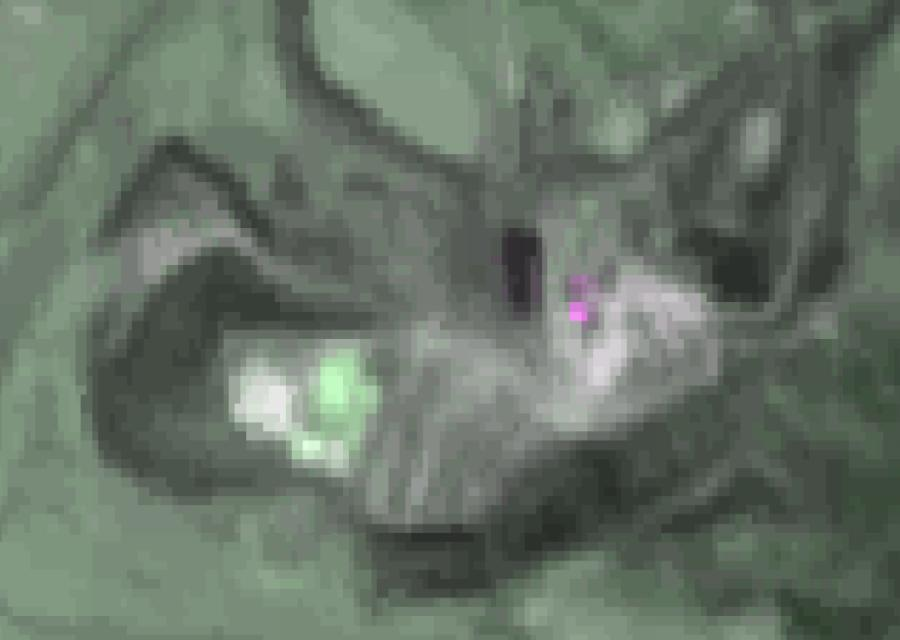Potential Lime Manufacturing Facility: (569, 302, 591, 322)
